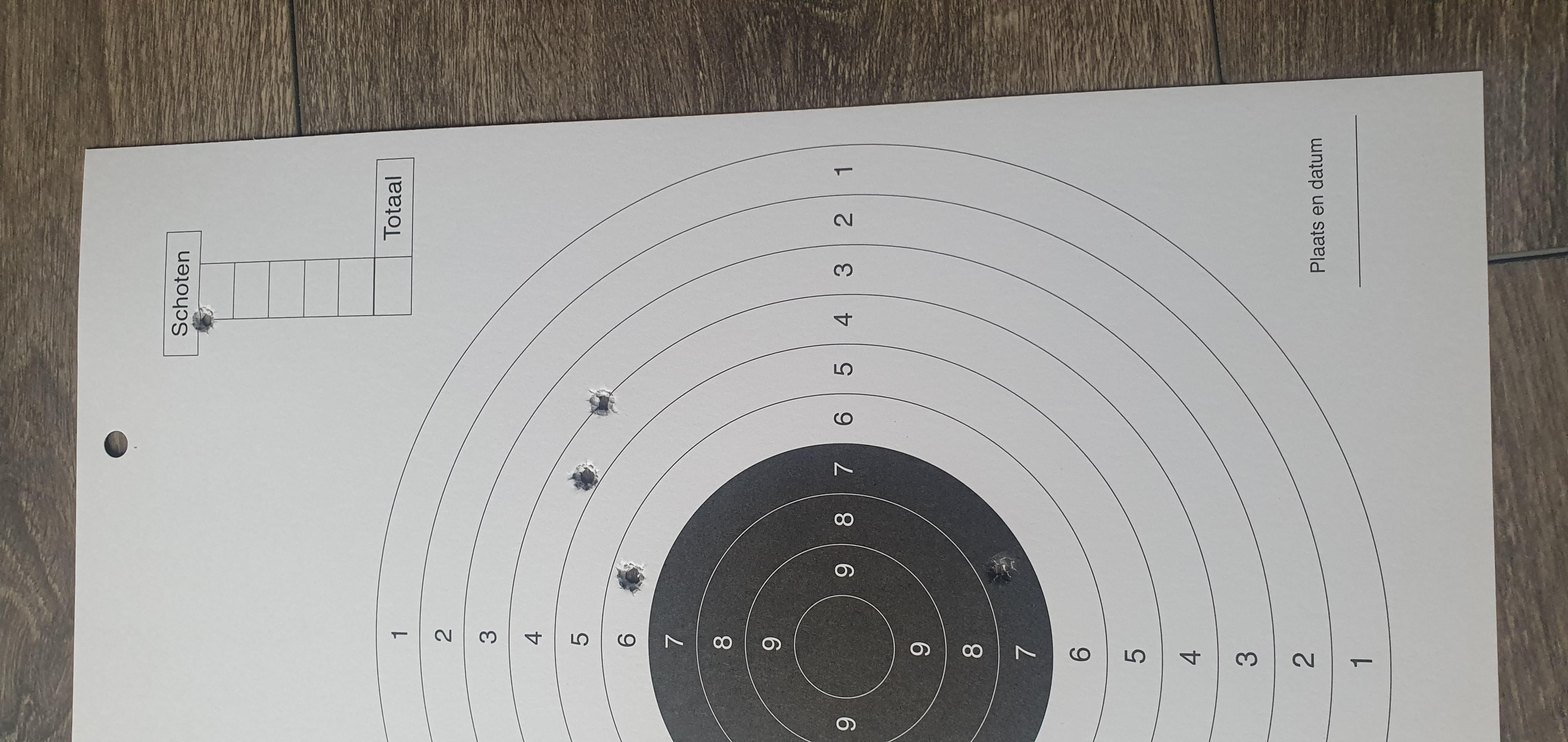hole: (316, 466, 404, 483), (302, 290, 390, 307), (524, 267, 601, 284), (683, 277, 752, 293), (860, 90, 924, 103)
